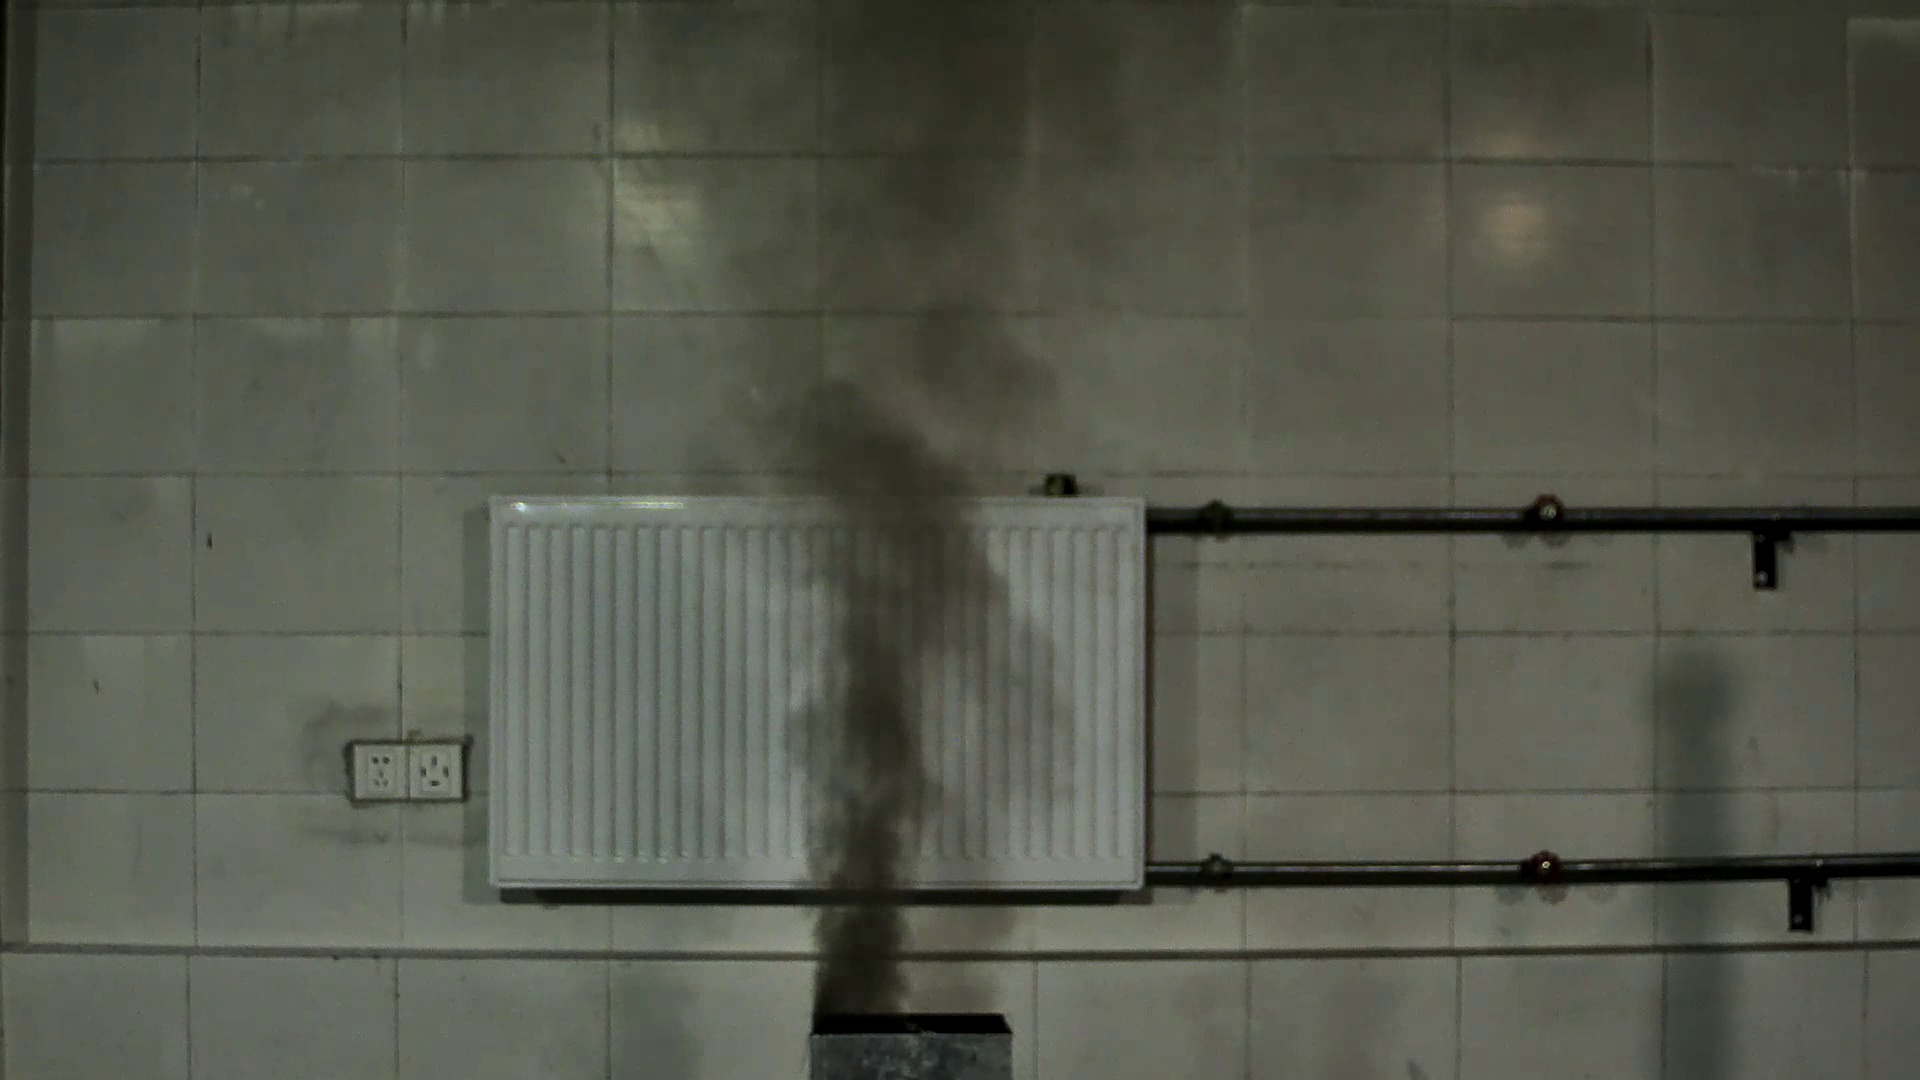smoke: (669, 380, 1029, 1009)
